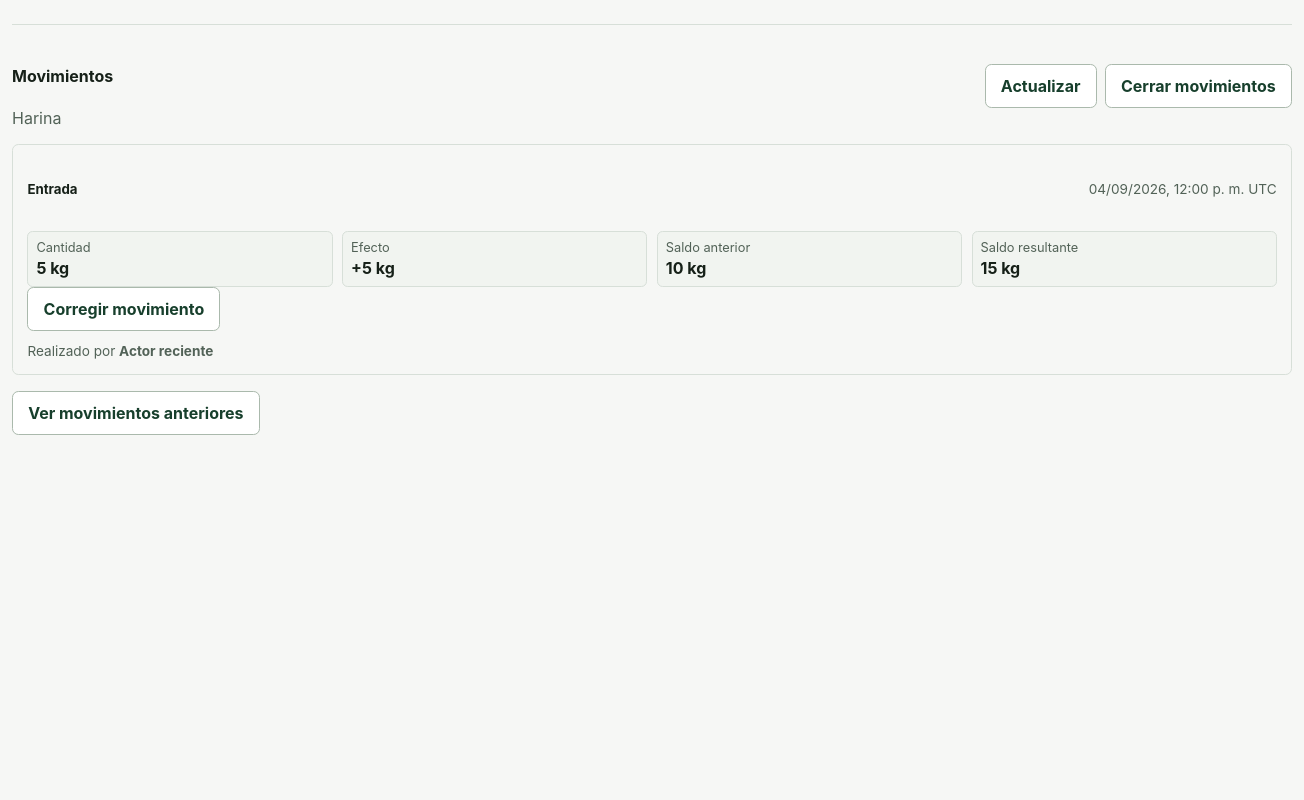
Test: InventoryHistory › loads recent movements first and appends older cursor pages without sorting
Check: the text "Actor reciente" is shown, box [119, 344, 213, 360]
Click the button "Ver movimientos anteriores": {"x": 136, "y": 413} [12, 391, 260, 435]
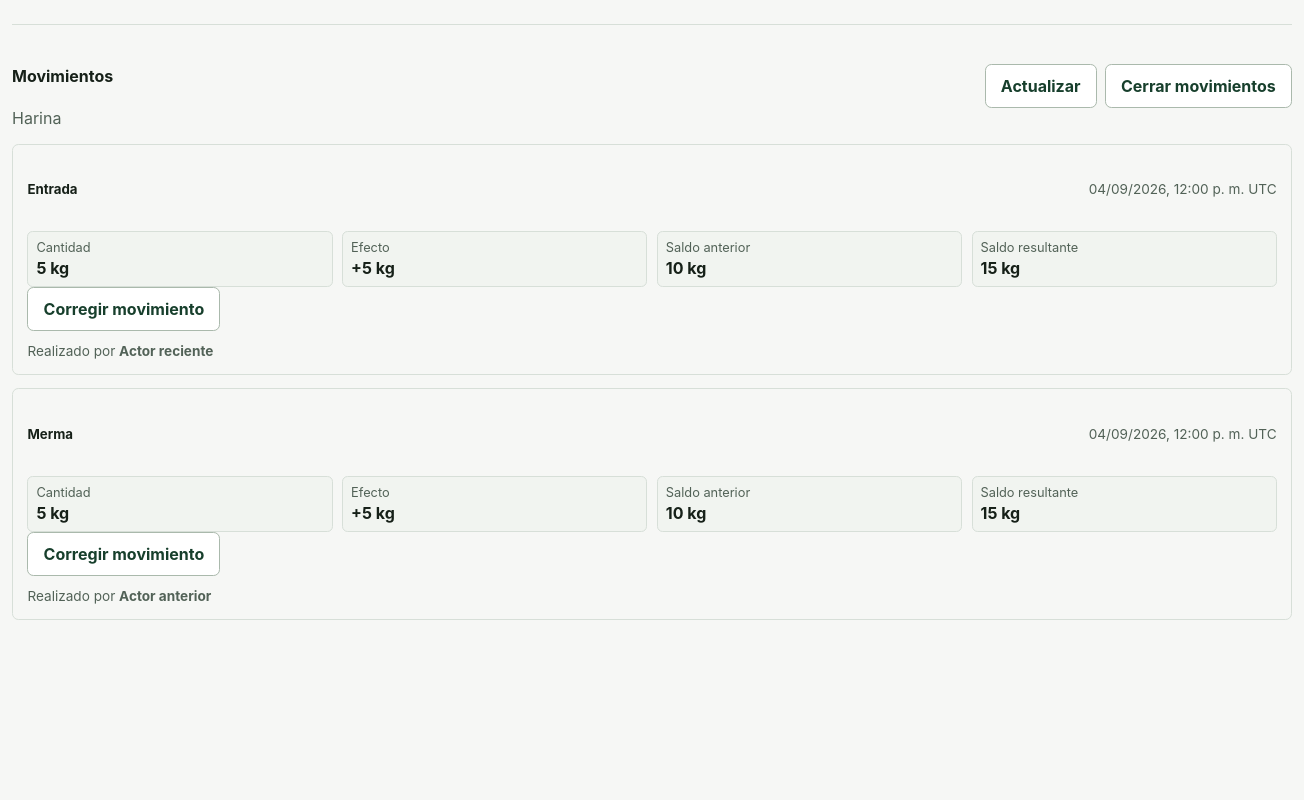
Check: the text "Actor anterior" is shown, box [119, 588, 211, 604]
